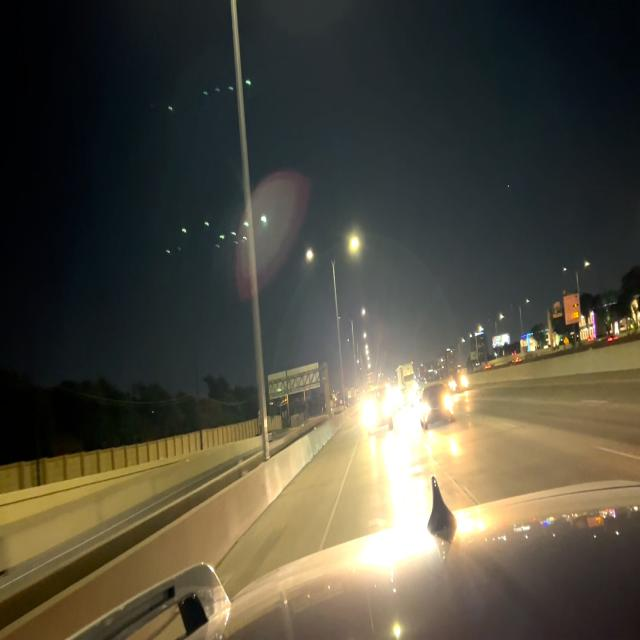back-of-sign: (268, 362, 321, 400)
